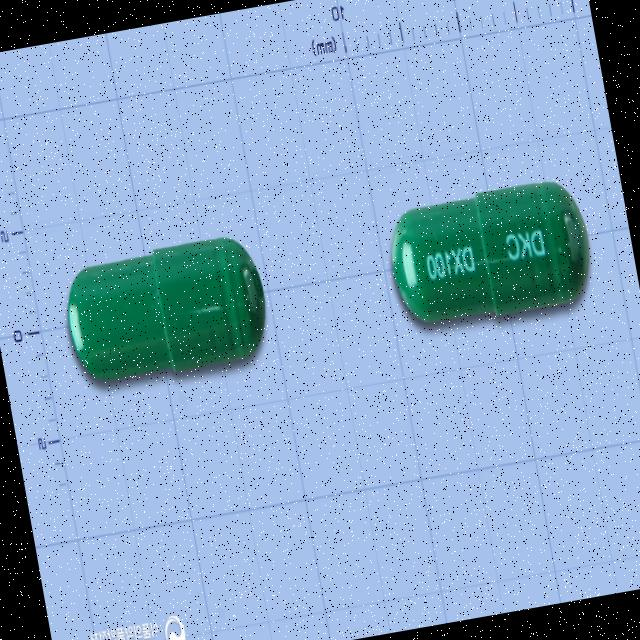Doxiramycin Cap: (55, 228, 275, 394), (380, 172, 599, 334)
